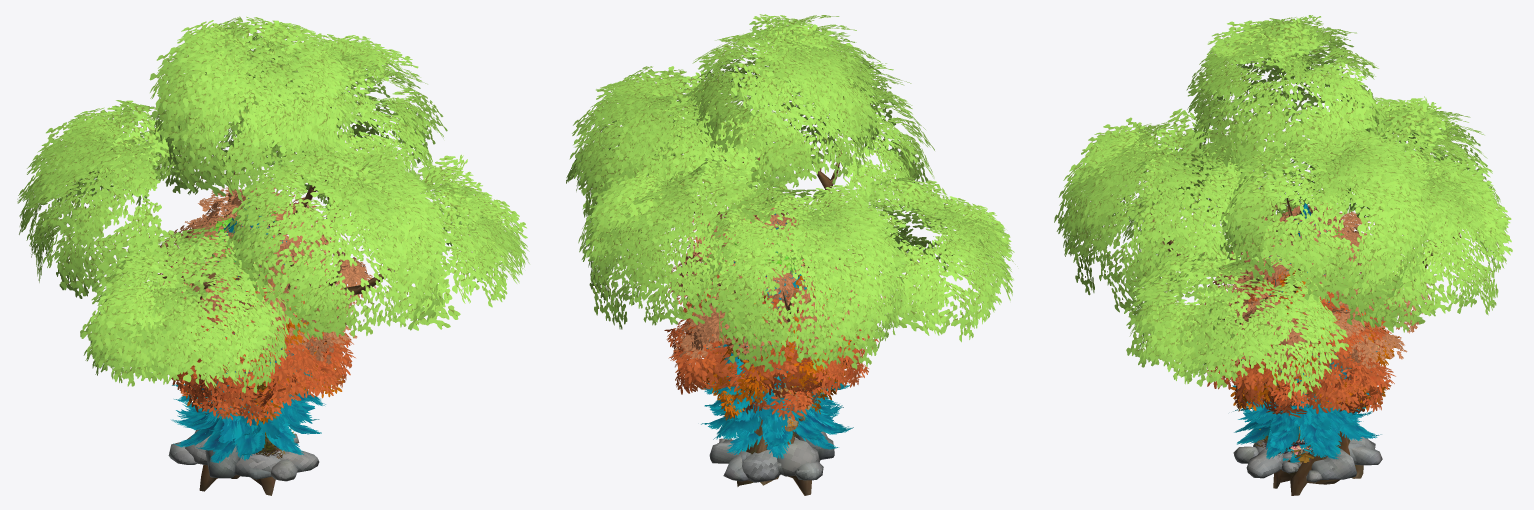
File: scenery.glb
3 views of the same model, side by side, from view 1: azimuth 30°, elevation 25°; view 2: azimuth 150°, elevation 25°; view 3: azimuth 270°, elevation 25° (orthographic). The views are drawn at different scales.
Visible parts, largest first — view 1: RedAlder2, SM_MediumAlder_StW_Orange, SM_StW_Tree_Rubber02, Tree_Pine_05_AD, SM_Props_RockPile01, SM_StW_Tree01, SM_Props_RockPile05, Tree_Pine_06_AD, Tree_Pine_02_AD; view 2: RedAlder2, SM_MediumAlder_StW_Orange, Tree_Pine_05_AD, SM_StW_Tree_Rubber02, SM_Props_RockPile01, SM_StW_Tree01, Tree_Pine_02_AD, Tree_Pine_06_AD; view 3: RedAlder2, SM_MediumAlder_StW_Orange, SM_StW_Tree_Rubber02, Tree_Pine_05_AD, SM_Props_RockPile01, SM_StW_Tree01, SM_Props_RockPile05.
Boxes of the visible parts, left/top/right/bottom form: RedAlder2: left=17, top=16, right=529, bottom=495; SM_MediumAlder_StW_Orange: left=167, top=261, right=355, bottom=425; SM_StW_Tree_Rubber02: left=145, top=182, right=376, bottom=364; Tree_Pine_05_AD: left=171, top=327, right=325, bottom=463; SM_Props_RockPile01: left=168, top=429, right=319, bottom=479; SM_StW_Tree01: left=179, top=257, right=344, bottom=425; SM_Props_RockPile05: left=235, top=455, right=297, bottom=481; Tree_Pine_06_AD: left=189, top=275, right=297, bottom=442; Tree_Pine_02_AD: left=174, top=198, right=315, bottom=418; RedAlder2: left=566, top=14, right=1017, bottom=495; SM_MediumAlder_StW_Orange: left=664, top=263, right=878, bottom=420; Tree_Pine_05_AD: left=701, top=343, right=853, bottom=458; SM_StW_Tree_Rubber02: left=668, top=197, right=885, bottom=360; SM_Props_RockPile01: left=709, top=430, right=834, bottom=482; SM_StW_Tree01: left=691, top=275, right=851, bottom=420; Tree_Pine_02_AD: left=706, top=213, right=849, bottom=414; Tree_Pine_06_AD: left=716, top=302, right=836, bottom=439; RedAlder2: left=1054, top=15, right=1512, bottom=495; SM_MediumAlder_StW_Orange: left=1206, top=269, right=1395, bottom=417; SM_StW_Tree_Rubber02: left=1197, top=202, right=1429, bottom=383; Tree_Pine_05_AD: left=1230, top=352, right=1382, bottom=459; SM_Props_RockPile01: left=1246, top=436, right=1375, bottom=482; SM_StW_Tree01: left=1230, top=270, right=1398, bottom=412; SM_Props_RockPile05: left=1233, top=440, right=1382, bottom=469.
Size of the model in its own units: 4.98 by 5.16 by 4.77.
Materials: 37 (37 with a texture image).
